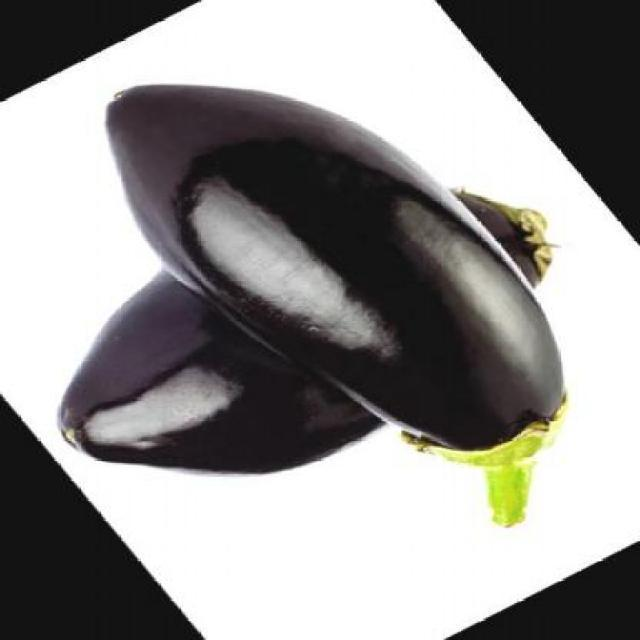eggplant: (45, 0, 639, 575), (0, 112, 622, 546)
